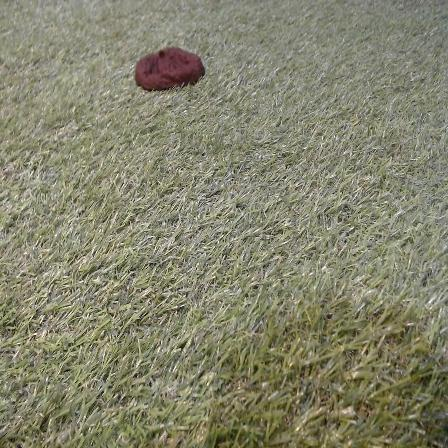dog-poop: (131, 40, 207, 95)
